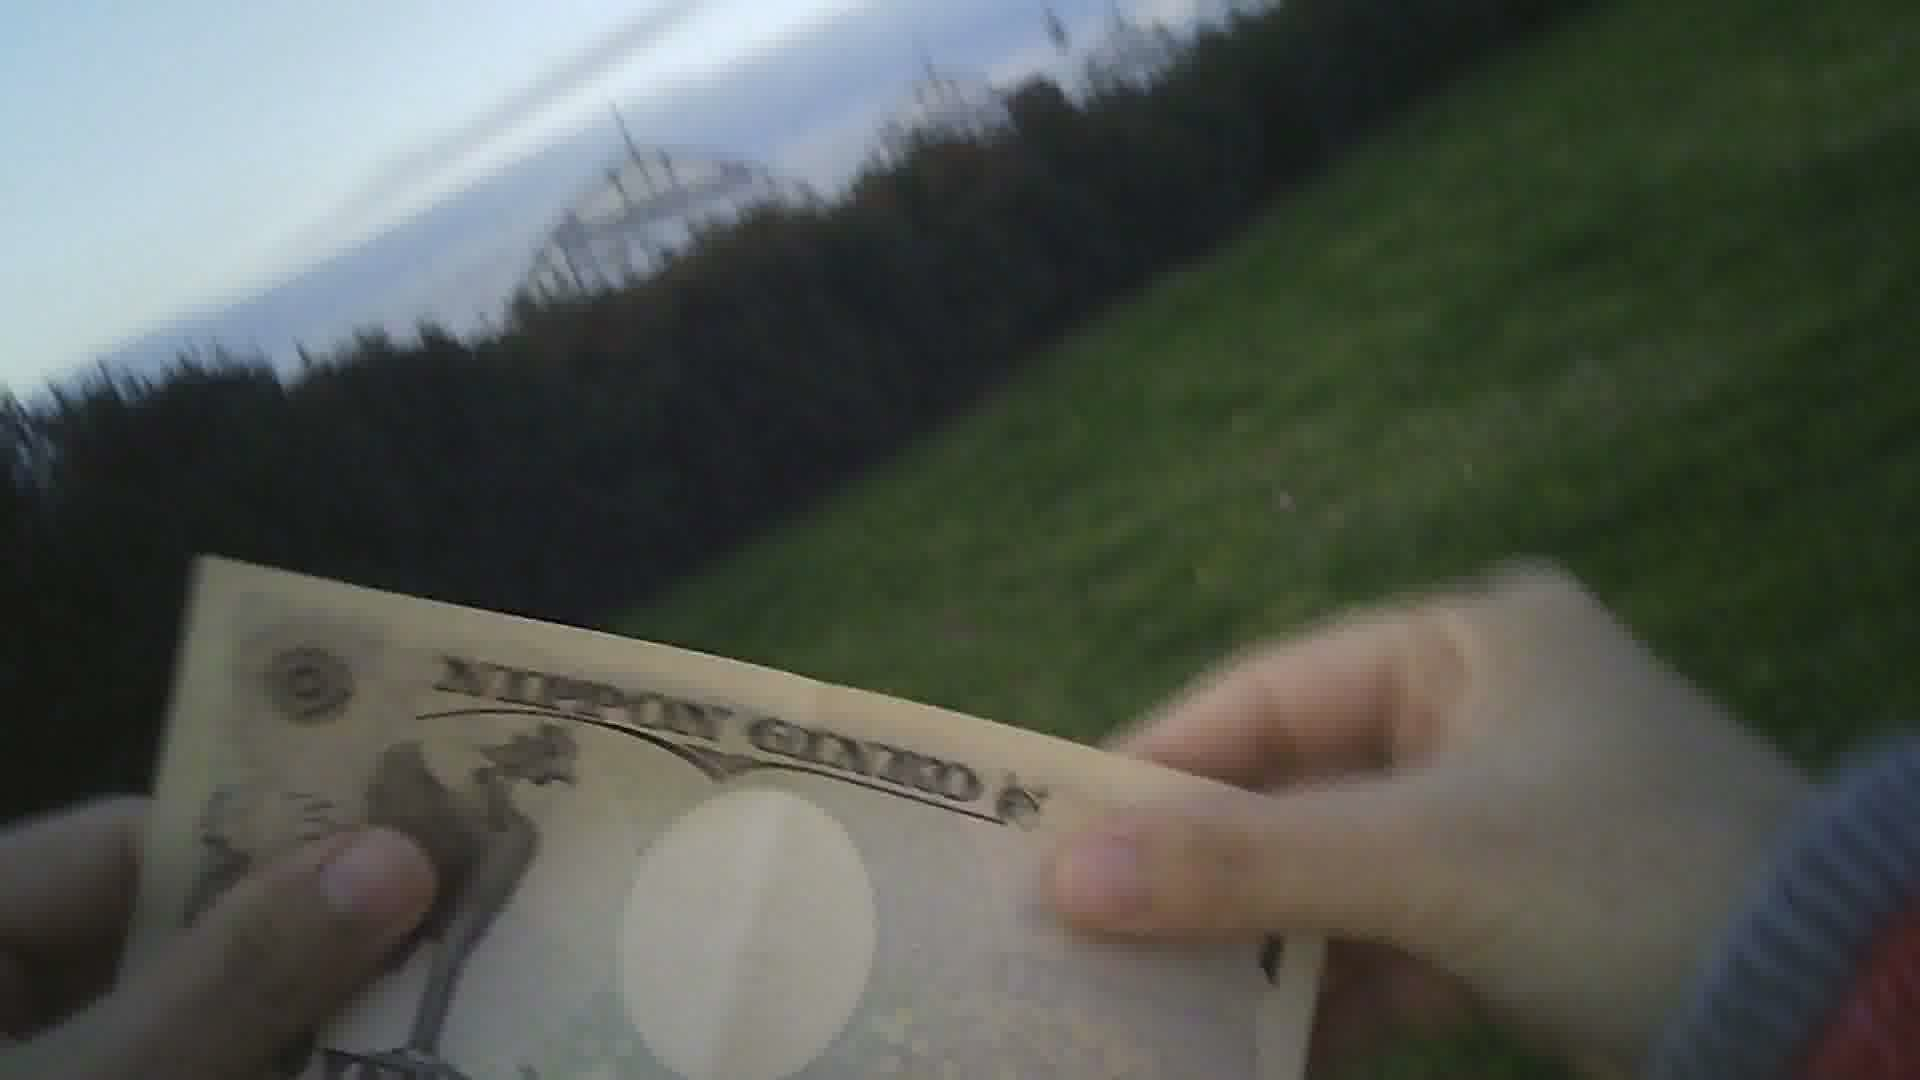10,000 Yen: (121, 545, 1346, 1064)
